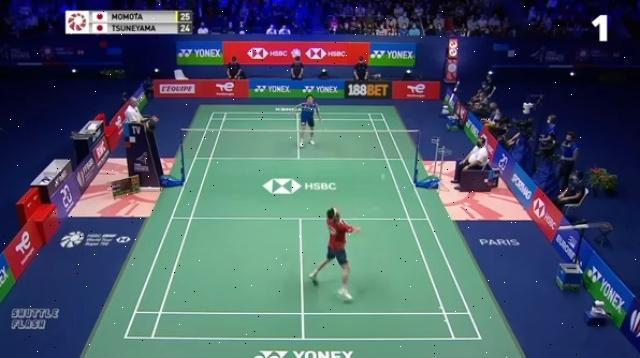Shuttlecock: (379, 173, 387, 181)
